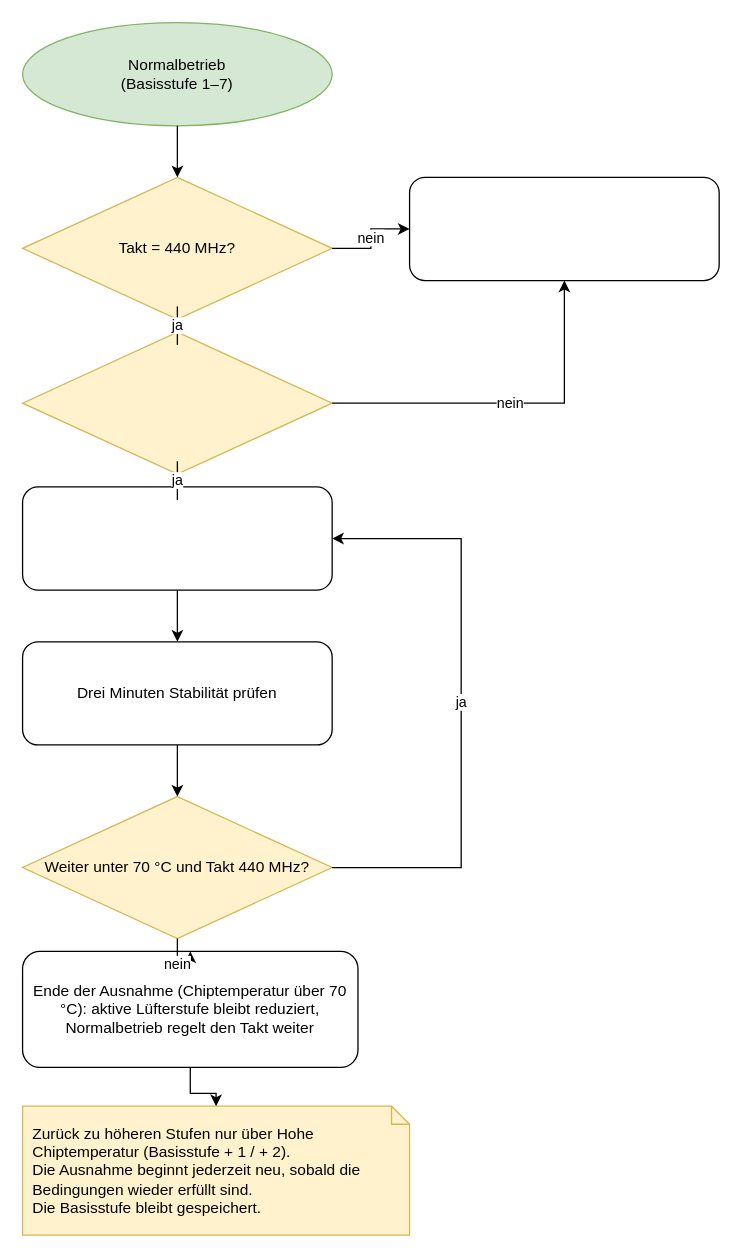
The diagram is 742 pixels wide and 1258 high, and some of its shapes have lost their labels. The centre of each missing label's shape, as x and y in pixels:
"Aktive Lüfterstufe − 1 (nicht unter Stufe 1)" goes at [176,538].
"Chiptemperatur drei Minuten stabil unter 70 °C?" goes at [176,402].
"Keine Ausnahme" goes at [563,228].
